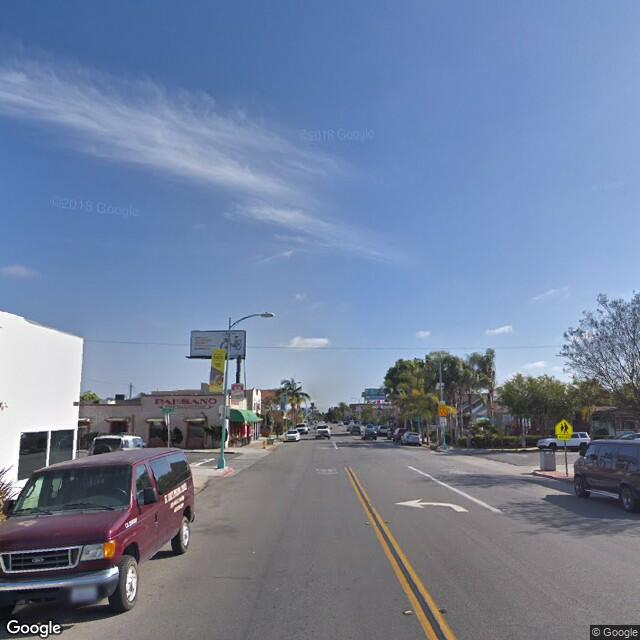light: (260, 308, 273, 318)
road line: (375, 514, 440, 583), (347, 466, 391, 505), (421, 476, 465, 490)
window: (18, 424, 48, 475)
